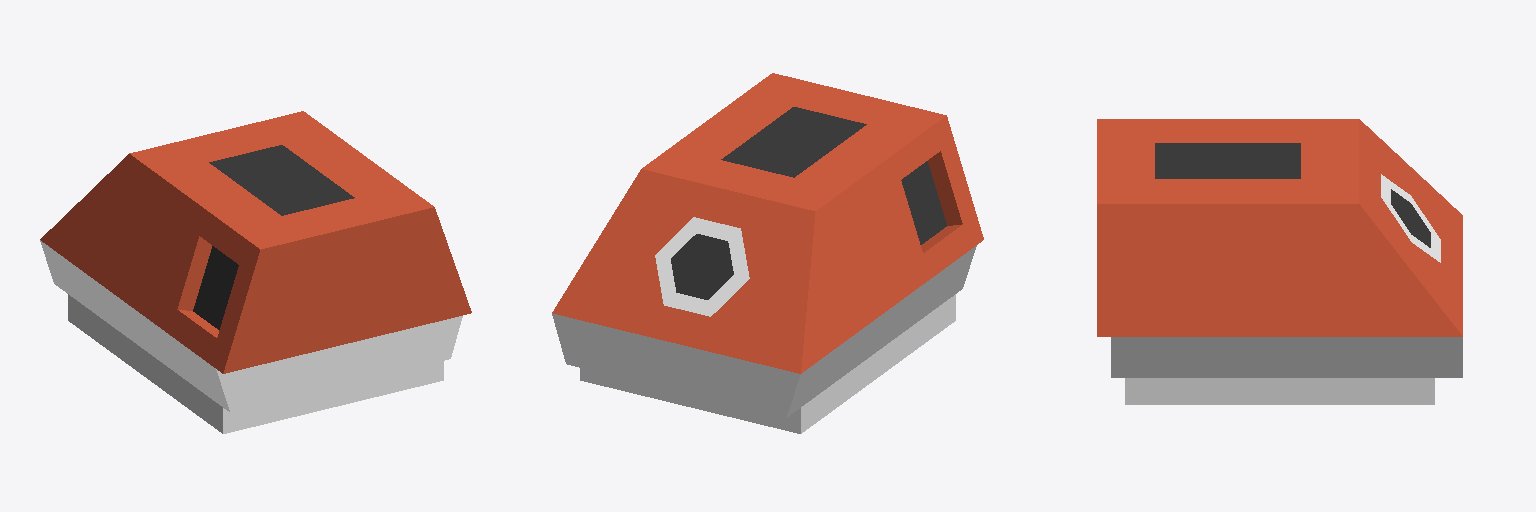
Rendered from robot.obj.
3 renders of one model, left to right at view 1: azimuth 30°, elevation 25°; view 2: azimuth 150°, elevation 25°; view 3: azimuth 270°, elevation 25°, orthographic.
Parts seen in each view (by area): view 1: robot; view 2: robot; view 3: robot.
Boxes of the visible parts, box(x1,y1,x2,y2) form: robot: box(40, 111, 471, 433); robot: box(552, 73, 983, 433); robot: box(1097, 119, 1462, 404).
Size of the model in its own units: 2.03 by 1.48 by 2.59.